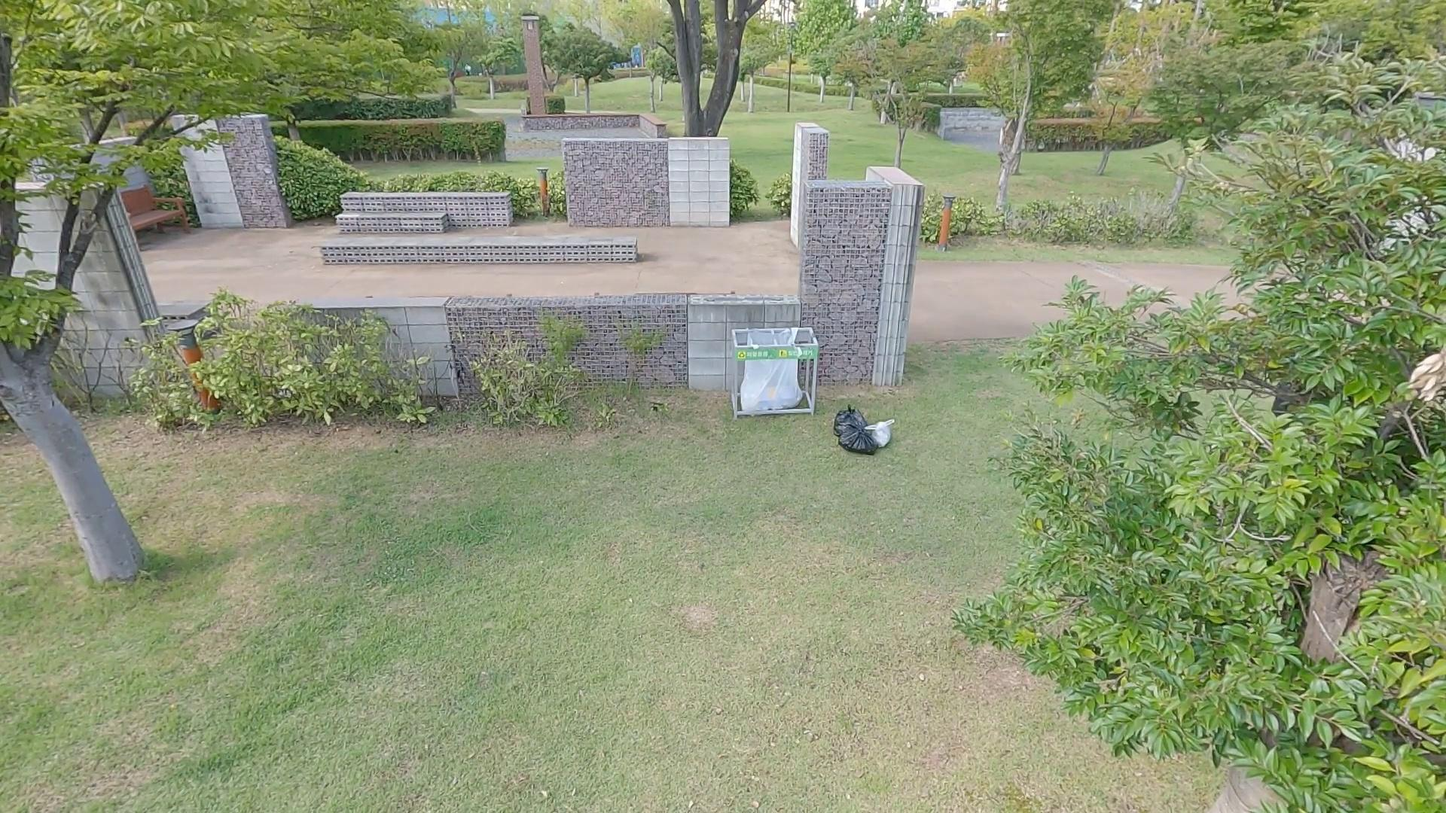trash: (833, 405, 870, 442), (839, 426, 878, 456), (864, 419, 898, 449)
